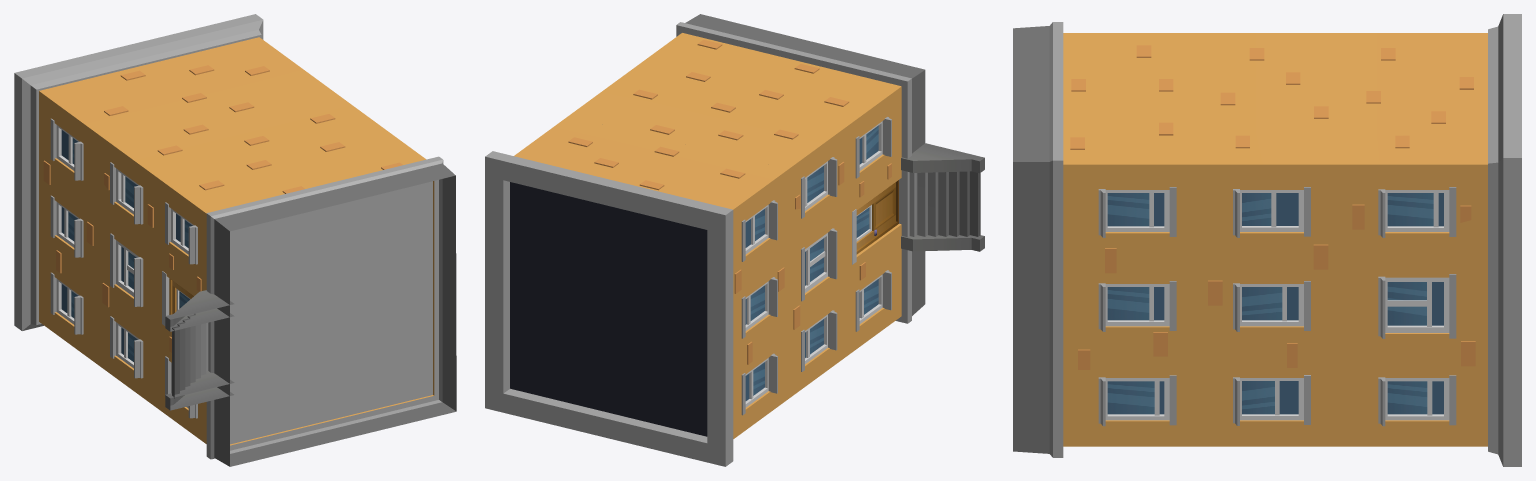
Rendered from Building_2_4_E.fbx.
3 views of the same model, side by side, from view 1: azimuth 30°, elevation 25°; view 2: azimuth 150°, elevation 25°; view 3: azimuth 270°, elevation 25° (orthographic). The views are drawn at different scales.
Visible parts, largest first — view 1: Building_2_4_E; view 2: Building_2_4_E; view 3: Building_2_4_E.
Boxes of the visible parts, x1,y1,x2,y2 form: Building_2_4_E: [14, 14, 456, 466]; Building_2_4_E: [485, 14, 984, 466]; Building_2_4_E: [1013, 14, 1521, 466].
Size of the model in its own units: 754 by 620 by 926.
